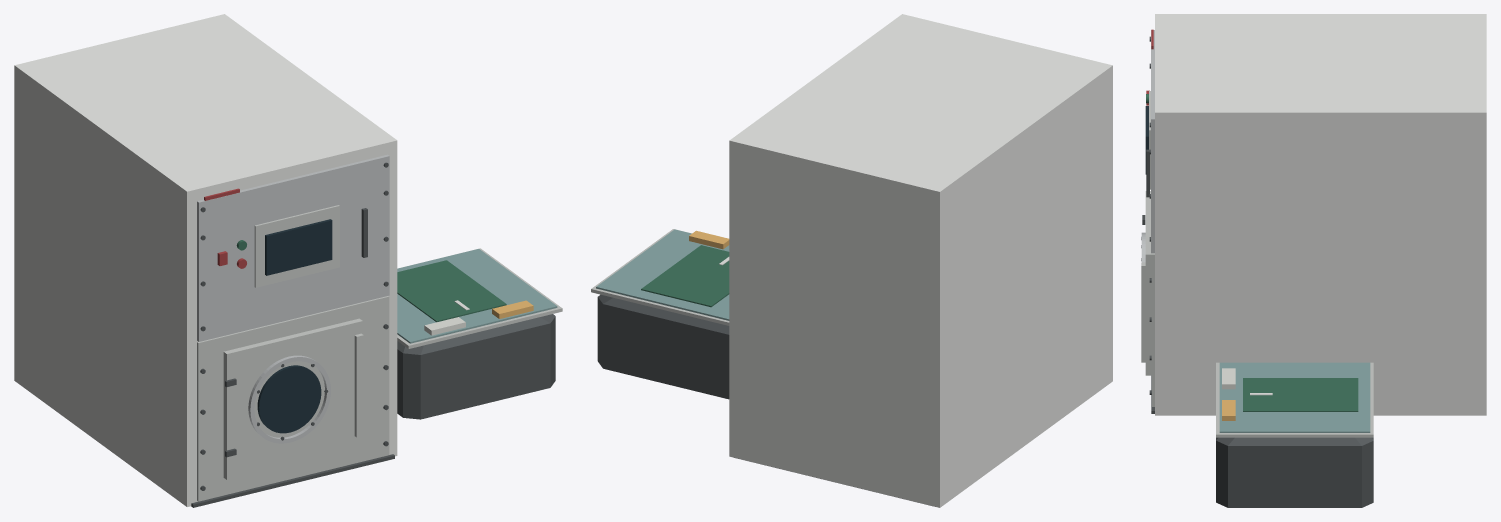
File: diener-nano.glb
3 renders of one model, left to right at view 1: azimuth 30°, elevation 25°; view 2: azimuth 150°, elevation 25°; view 3: azimuth 270°, elevation 25°, orthographic. The views are drawn at different scales.
Parts seen in each view (by area): view 1: Nominal_tabletop_shell, Main_upper_inset, Main_lower_inset, Closed_front_door, Chart_pedestal, Chart_paper, Paper_cabinet_silhouette, Opaque_closed_viewport, Dark_display, Dark_display_surround, Viewport_ring, Chart_frame (+2 smaller); view 2: Nominal_tabletop_shell, Chart_pedestal, Chart_paper, Paper_cabinet_silhouette, Chart_frame; view 3: Nominal_tabletop_shell, Chart_pedestal, Chart_paper, Paper_cabinet_silhouette, Chart_frame, Closed_front_door, Main_upper_inset, Door_handle, Main_lower_inset.
Boxes of the visible parts, left/top/right/bottom form: Nominal_tabletop_shell: left=14, top=14, right=397, bottom=506; Main_upper_inset: left=197, top=154, right=389, bottom=341; Main_lower_inset: left=197, top=296, right=389, bottom=501; Closed_front_door: left=223, top=318, right=362, bottom=479; Chart_pedestal: left=397, top=314, right=555, bottom=419; Chart_paper: left=397, top=249, right=557, bottom=343; Paper_cabinet_silhouette: left=397, top=260, right=506, bottom=322; Opaque_closed_viewport: left=257, top=365, right=321, bottom=433; Dark_display: left=265, top=219, right=332, bottom=275; Dark_display_surround: left=254, top=205, right=339, bottom=287; Viewport_ring: left=248, top=355, right=330, bottom=443; Chart_frame: left=397, top=248, right=562, bottom=348; Nominal_tabletop_shell: left=729, top=14, right=1112, bottom=507; Chart_pedestal: left=597, top=294, right=729, bottom=399; Chart_paper: left=596, top=229, right=729, bottom=320; Paper_cabinet_silhouette: left=641, top=245, right=729, bottom=307; Chart_frame: left=591, top=229, right=729, bottom=325; Nominal_tabletop_shell: left=1155, top=14, right=1486, bottom=415; Chart_pedestal: left=1216, top=437, right=1373, bottom=507; Chart_paper: left=1219, top=362, right=1370, bottom=432; Paper_cabinet_silhouette: left=1243, top=378, right=1358, bottom=411; Chart_frame: left=1216, top=362, right=1373, bottom=437; Closed_front_door: left=1145, top=191, right=1151, bottom=375; Main_upper_inset: left=1151, top=30, right=1154, bottom=253; Door_handle: left=1141, top=262, right=1145, bottom=362; Main_lower_inset: left=1152, top=253, right=1154, bottom=406.
Size of the model in its own units: 1.05 by 0.775 by 0.8.
